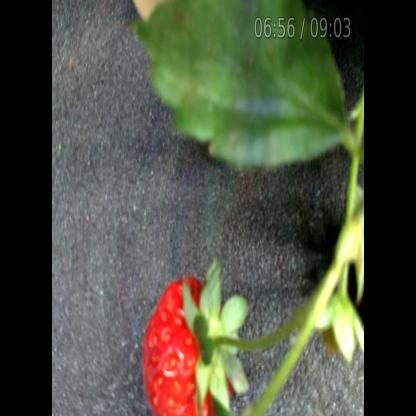ripe: (129, 266, 233, 416)
